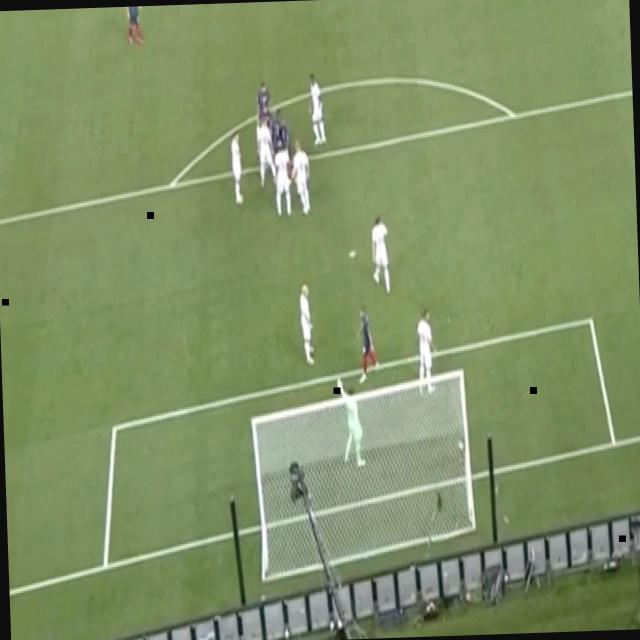player-white: (335, 373, 367, 470), (414, 307, 440, 397), (356, 304, 380, 386), (288, 137, 312, 218), (370, 212, 392, 295), (272, 138, 294, 219), (306, 72, 328, 148), (254, 115, 276, 189), (298, 282, 316, 368), (229, 131, 245, 209), (123, 6, 145, 48), (270, 107, 290, 150), (253, 82, 270, 122)
